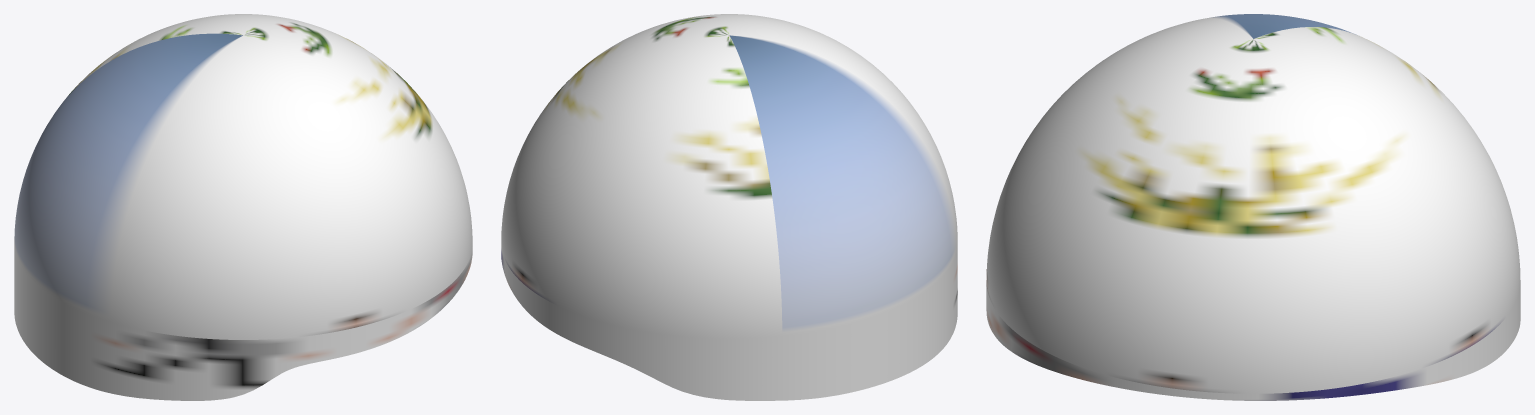
File: zipup_sky.obj
3 renders of one model, left to right at view 1: azimuth 30°, elevation 25°; view 2: azimuth 150°, elevation 25°; view 3: azimuth 270°, elevation 25°, orthographic. The views are drawn at different scales.
Size of the model in its own units: 200 by 135 by 200.
1 material, 1 textured.
